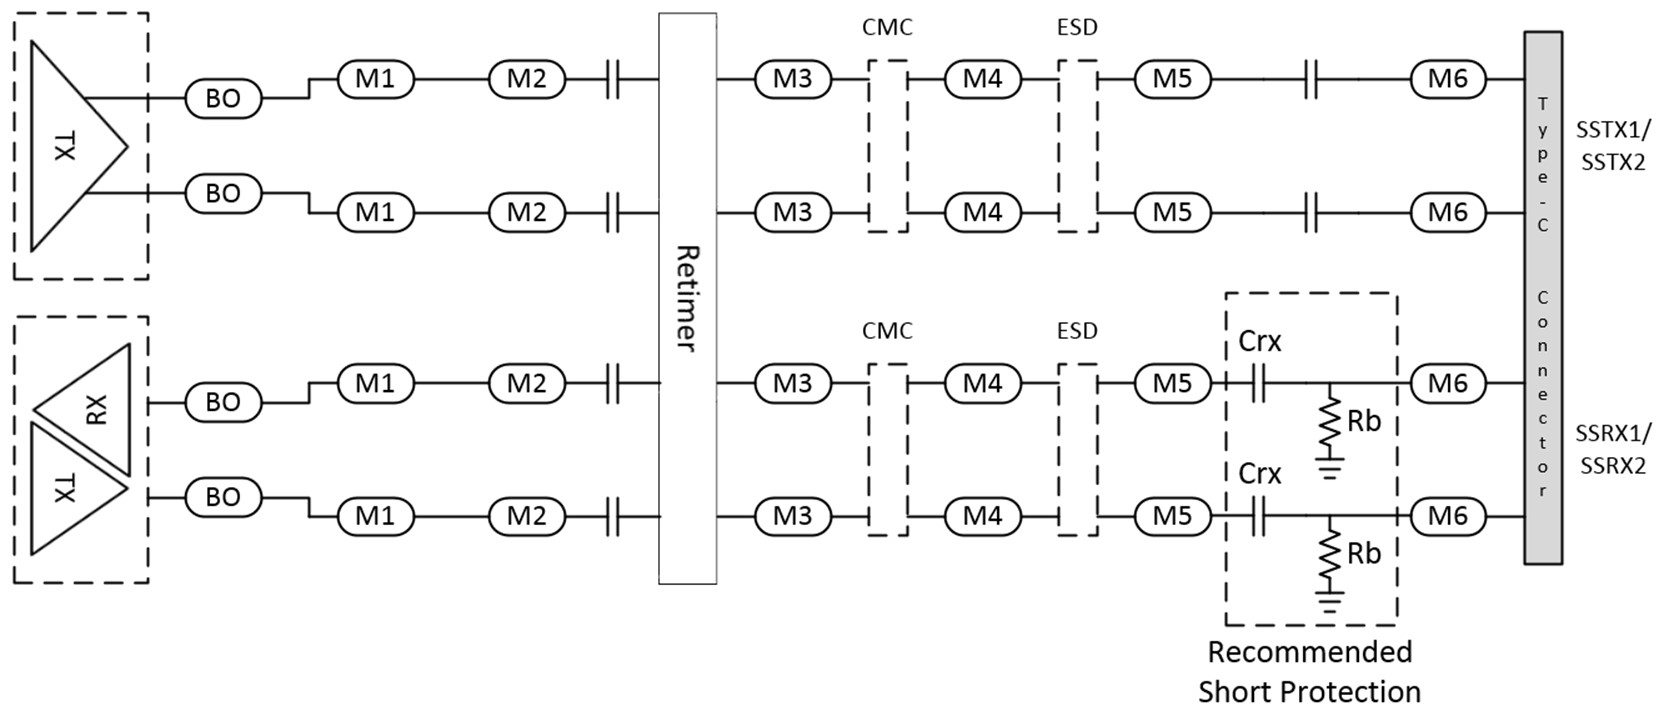capacitor: (589, 341, 635, 425), (593, 175, 637, 254), (587, 51, 641, 110), (1235, 490, 1287, 551), (1296, 176, 1332, 252), (594, 488, 635, 556), (1296, 51, 1328, 111), (1240, 356, 1272, 414)
dotted_rectangle: (1219, 290, 1401, 630), (10, 10, 158, 288), (14, 311, 158, 588), (1052, 360, 1103, 542), (865, 54, 914, 241), (864, 358, 910, 547), (1058, 58, 1104, 240), (1130, 192, 1212, 231), (1133, 61, 1216, 100)
ground: (1309, 454, 1353, 490), (1310, 583, 1349, 617)
oval: (334, 190, 420, 238), (756, 188, 837, 238), (755, 55, 832, 106), (484, 190, 568, 237), (1135, 359, 1214, 408), (182, 173, 264, 220), (336, 496, 419, 542), (483, 59, 571, 102), (336, 362, 418, 408), (487, 497, 566, 543), (181, 381, 264, 424), (942, 192, 1022, 237), (182, 77, 262, 121), (1410, 192, 1486, 237), (336, 59, 418, 101), (946, 365, 1022, 408), (942, 497, 1022, 538), (486, 366, 569, 405), (1134, 497, 1211, 538), (756, 363, 832, 404), (190, 477, 264, 517), (1412, 61, 1487, 102), (1408, 498, 1486, 536), (1411, 365, 1486, 405), (754, 500, 834, 536), (947, 60, 1022, 99)
rectangle: (657, 14, 719, 588), (1524, 31, 1568, 570)
resistor: (1314, 391, 1346, 450), (1310, 524, 1345, 577)
triangle: (27, 40, 128, 258), (26, 424, 130, 566), (31, 343, 135, 477)
